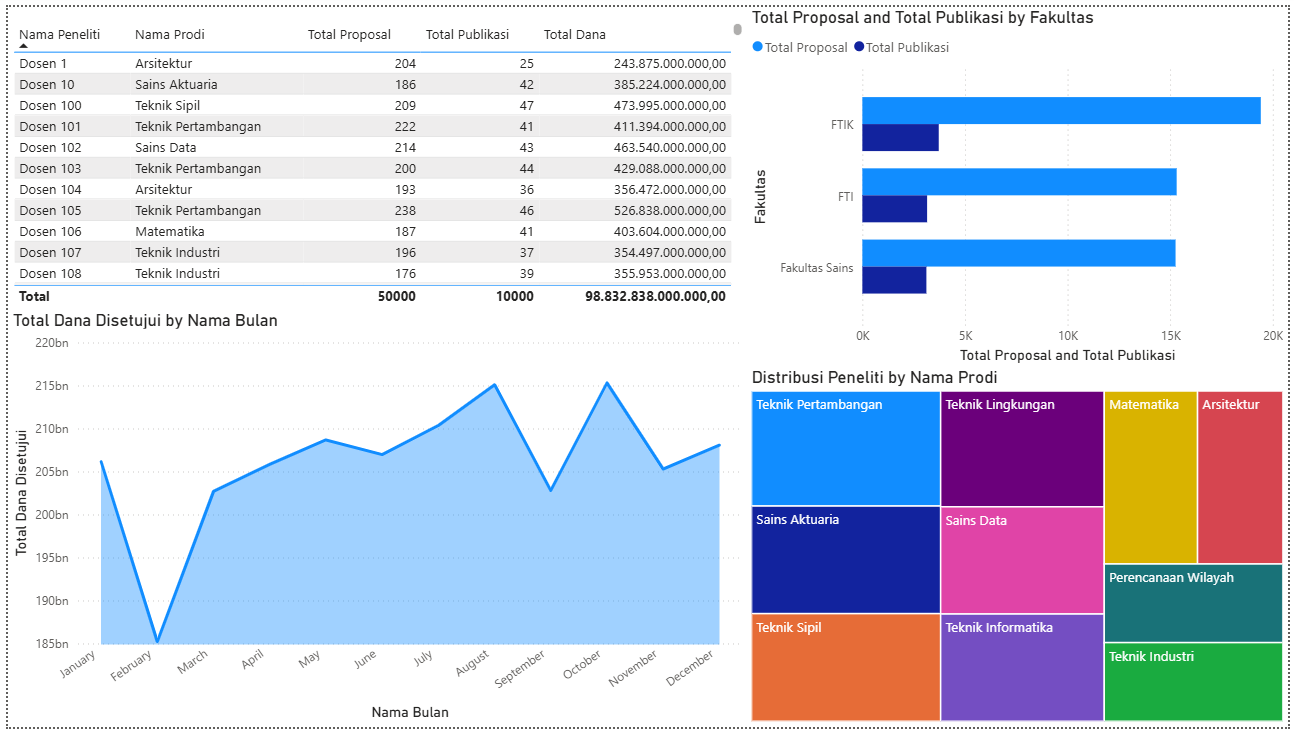

What the dashboard file says about the page in this screenshot:
{"tool":"powerbi","page":{"name":"Page 3","canvas":[1280,720],"ordinal":2},"visuals":[{"type":"stackedAreaChart","fields":{"Y":["vw_Proposal_Analytics.Total_Dana_Setuju"],"Category":["vw_Proposal_Analytics.NamaBulan"]},"box":[0,302.9,739.1,416],"z":0},{"type":"tableEx","fields":{"Values":["vw_Peneliti_Performance (2).Nama_Peneliti","vw_Peneliti_Performance (2).Nama_Prodi","vw_Peneliti_Performance (2).Jml_Proposal","vw_Peneliti_Performance (2).Jml_Publikasi","vw_Peneliti_Performance (2).Total_Dana"]},"box":[0,10.8,739.1,292.1],"z":1000},{"type":"clusteredBarChart","fields":{"Category":["vw_Peneliti_Performance (2).Fakultas"],"Y":["vw_Peneliti_Performance (2).Jml_Proposal","vw_Peneliti_Performance (2).Jml_Publikasi"]},"box":[739.1,0,541.2,360.8],"z":2000},{"type":"treemap","fields":{"Group":["vw_Peneliti_Performance (2).Nama_Prodi"],"Values":["vw_Peneliti_Performance (2).Jabatan_Fungsional"]},"box":[739.1,359.4,541.2,359.4],"z":4000}]}

Visuals, with their boxes in screenshot pixels (x1, y1, x2, y2), scaled from the page's 1280x720 canvas onto the 1294x733 screenshot:
stackedAreaChart - vw_Proposal_Analytics.Total_Dana_Setuju x vw_Proposal_Analytics.NamaBulan: crop(0, 308, 747, 732)
tableEx - vw_Peneliti_Performance (2).Nama_Peneliti x vw_Peneliti_Performance (2).Nama_Prodi: crop(0, 11, 747, 308)
clusteredBarChart - vw_Peneliti_Performance (2).Fakultas x vw_Peneliti_Performance (2).Jml_Proposal: crop(747, 0, 1293, 367)
treemap - vw_Peneliti_Performance (2).Nama_Prodi x vw_Peneliti_Performance (2).Jabatan_Fungsional: crop(747, 366, 1293, 732)
